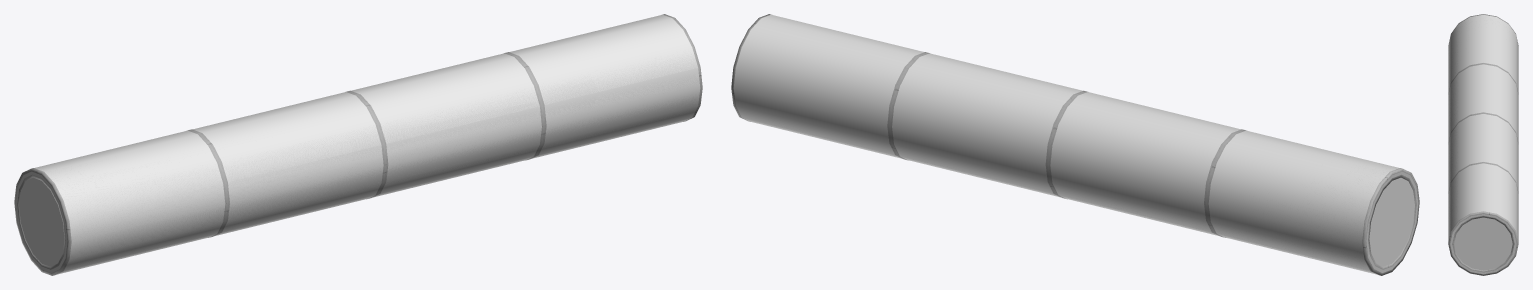
File: s_gm_pipe_concrete_d120.dae
3 renders of one model, left to right at view 1: azimuth 30°, elevation 25°; view 2: azimuth 150°, elevation 25°; view 3: azimuth 270°, elevation 25°, orthographic. The views are drawn at different scales.
Visible parts, largest first — view 1: concrete_pipe_d120_a25, Colmesh_concrete_pipe_d120-1, concrete_pipe_d120_a50, concrete_pipe_d120_a100; view 2: Colmesh_concrete_pipe_d120-1, concrete_pipe_d120_a25, concrete_pipe_d120_a100, concrete_pipe_d120_a50; view 3: Colmesh_concrete_pipe_d120-1, concrete_pipe_d120_a25, concrete_pipe_d120_a100, concrete_pipe_d120_a50.
Boxes of the visible parts, left/top/right/bottom form: concrete_pipe_d120_a25: left=17, top=47, right=700, bottom=274; Colmesh_concrete_pipe_d120-1: left=36, top=14, right=697, bottom=269; concrete_pipe_d120_a50: left=15, top=50, right=699, bottom=273; concrete_pipe_d120_a100: left=14, top=14, right=702, bottom=275; Colmesh_concrete_pipe_d120-1: left=733, top=14, right=1398, bottom=270; concrete_pipe_d120_a25: left=737, top=106, right=1414, bottom=274; concrete_pipe_d120_a100: left=731, top=14, right=1419, bottom=275; concrete_pipe_d120_a50: left=745, top=118, right=1418, bottom=272; Colmesh_concrete_pipe_d120-1: left=1449, top=15, right=1518, bottom=274; concrete_pipe_d120_a25: left=1448, top=14, right=1518, bottom=241; concrete_pipe_d120_a100: left=1448, top=14, right=1518, bottom=275; concrete_pipe_d120_a50: left=1448, top=15, right=1516, bottom=273.
Bounding box in the file's own units: 8.01 × 1.2 × 1.2.
